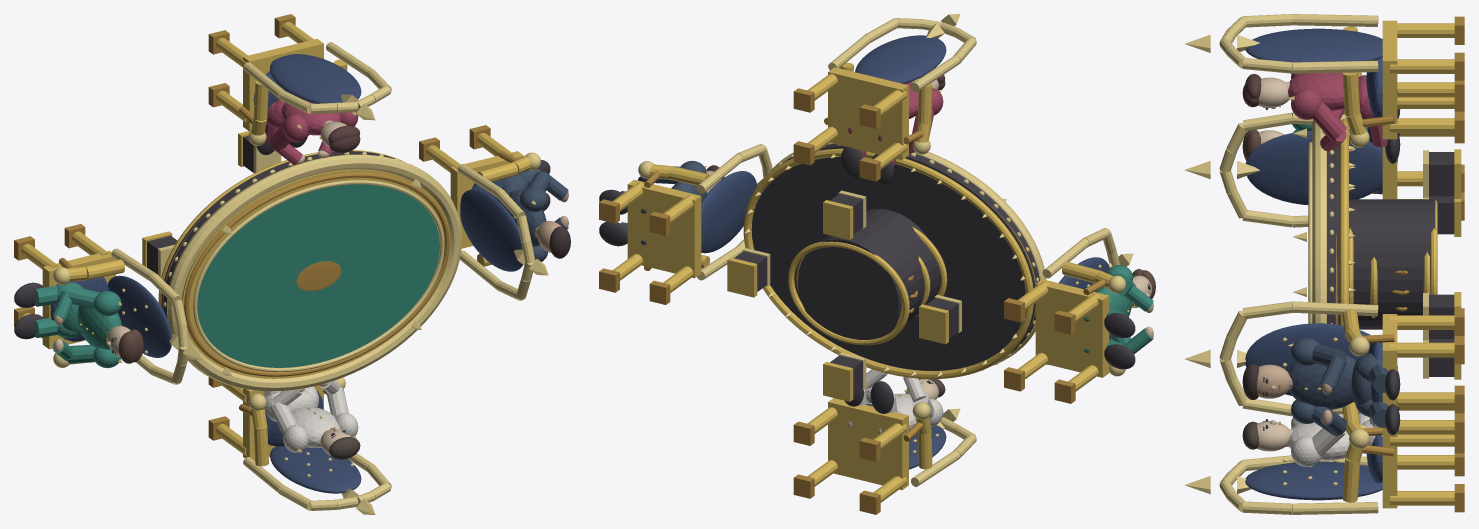
Rendered from REX_four_seat_scene_GUIDE_ONLY.glb.
The picture shows the model from 3 angles, left to right: view 1: azimuth 30°, elevation 25°; view 2: azimuth 150°, elevation 25°; view 3: azimuth 270°, elevation 25°; orthographic projection. The views are drawn at different scales.
Visible parts, largest first — view 1: world; view 2: world; view 3: world.
Boxes of the visible parts, box(x1,y1,x2,y2) form: world: box(14, 14, 570, 514); world: box(599, 14, 1155, 514); world: box(1184, 14, 1464, 514).
Size of the model in its own units: 5.2 by 3.81 by 2.11.
